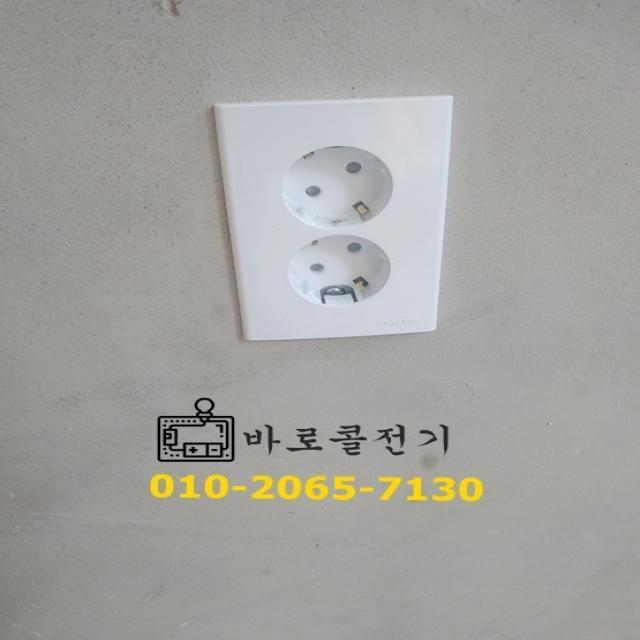typeb: (154, 92, 488, 366)
